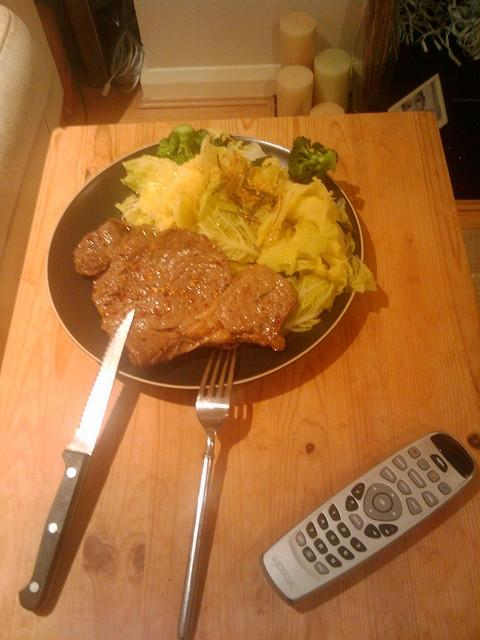broccoli: (282, 136, 338, 184), (156, 124, 208, 166), (227, 141, 268, 166), (213, 138, 224, 147)
